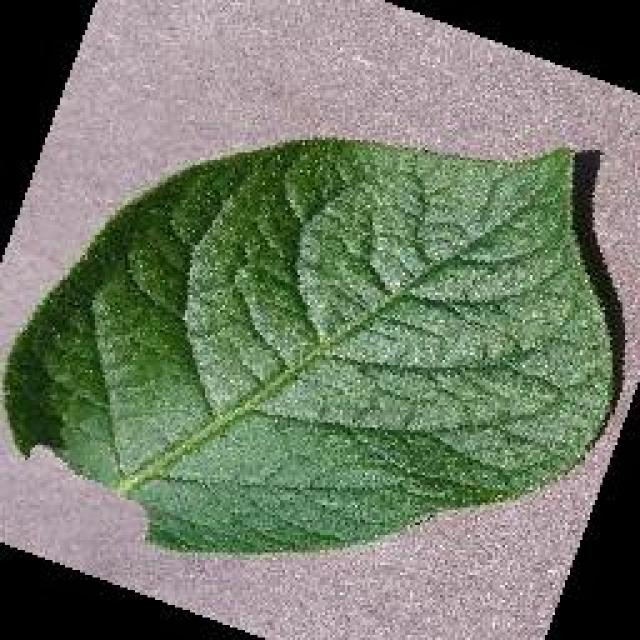Potato___healthy: (0, 133, 620, 558)
